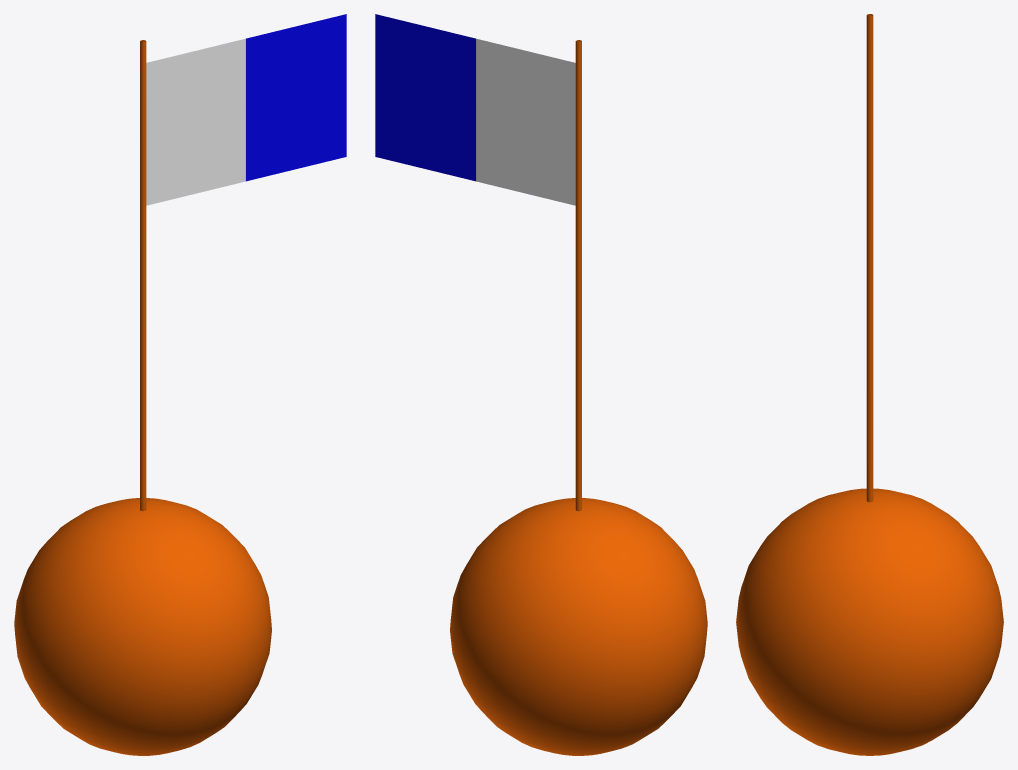
Rendered from flagcz.glb.
3 renders of one model, left to right at view 1: azimuth 30°, elevation 25°; view 2: azimuth 150°, elevation 25°; view 3: azimuth 270°, elevation 25°, orthographic. The views are drawn at different scales.
Parts seen in each view (by area): view 1: Sphere, Plane.001, Cylinder; view 2: Sphere, Plane.001, Cylinder; view 3: Sphere, Cylinder.
Part boxes in pixels (bbox=[...]): Sphere: bbox=[14, 498, 271, 755]; Plane.001: bbox=[146, 14, 346, 205]; Cylinder: bbox=[140, 40, 146, 511]; Sphere: bbox=[450, 498, 707, 755]; Plane.001: bbox=[375, 14, 575, 205]; Cylinder: bbox=[575, 40, 581, 511]; Sphere: bbox=[736, 488, 1003, 755]; Cylinder: bbox=[866, 14, 873, 502].
Bounding box in the file's own units: 1.41 × 3 × 1.
3 materials, 1 textured.
